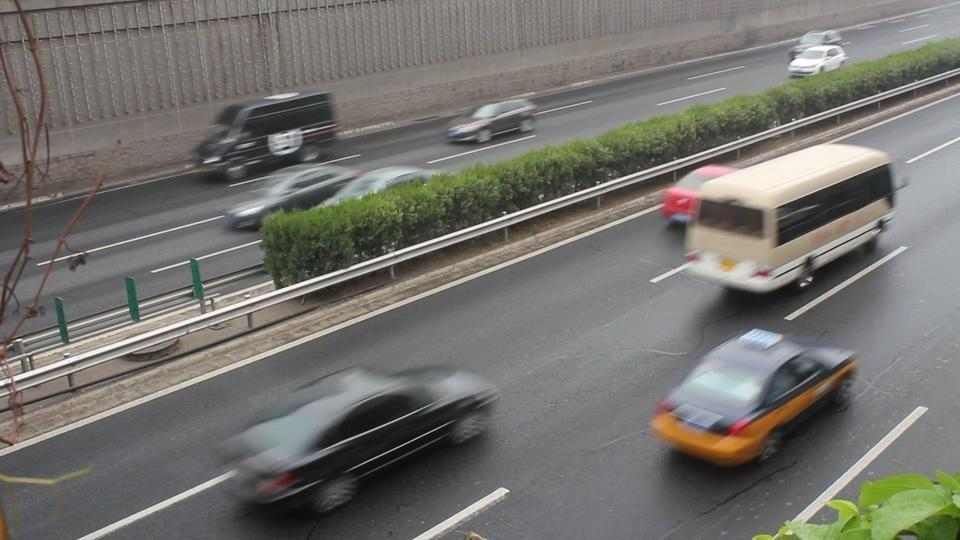car: (214, 364, 501, 517), (650, 326, 861, 467), (193, 89, 342, 184), (220, 165, 390, 232), (445, 98, 539, 145), (788, 45, 848, 78), (793, 30, 847, 51)
